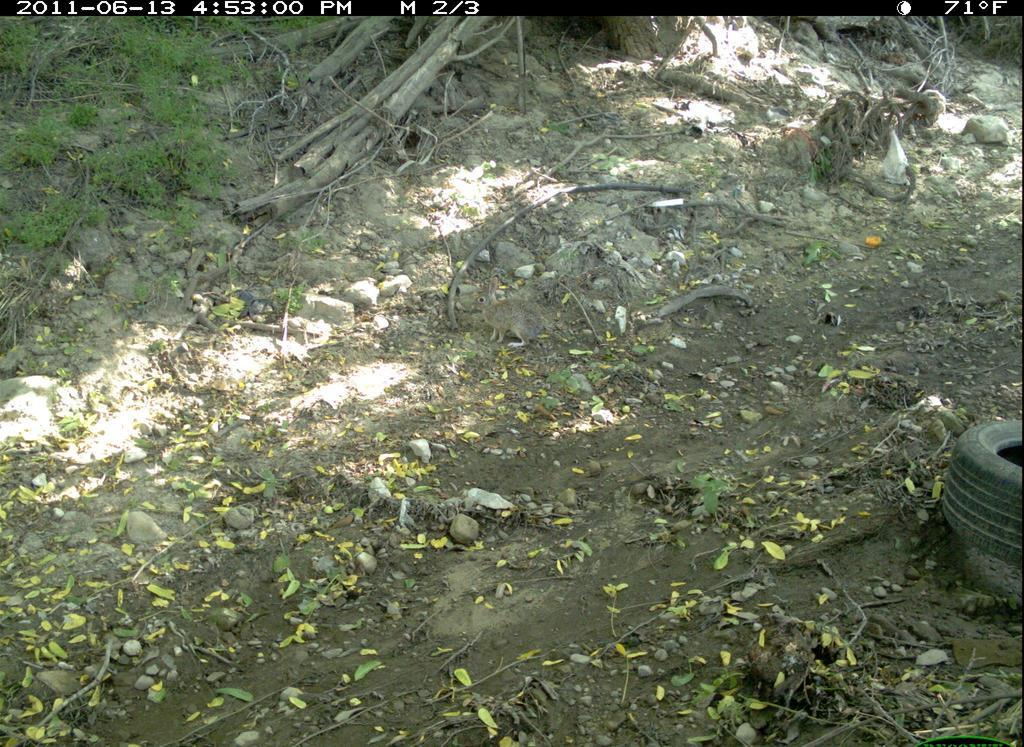rabbit: (459, 272, 564, 356)
